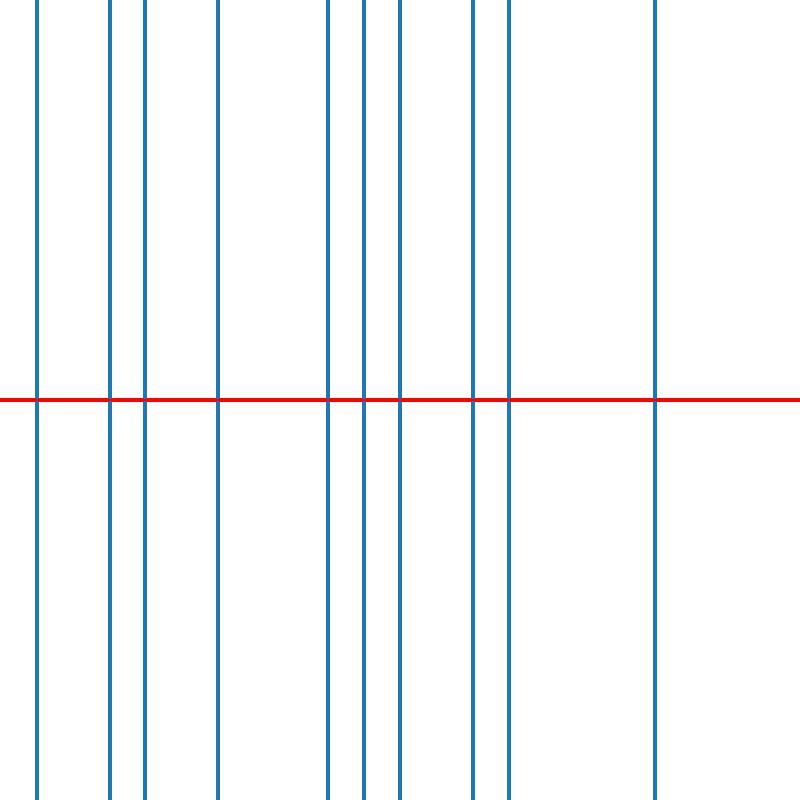root: (32, 396, 40, 404), (650, 396, 658, 404), (141, 396, 149, 404), (323, 396, 330, 404), (214, 396, 221, 404), (505, 396, 512, 404), (396, 396, 403, 404), (469, 396, 476, 404), (360, 396, 367, 404), (105, 396, 112, 404)
